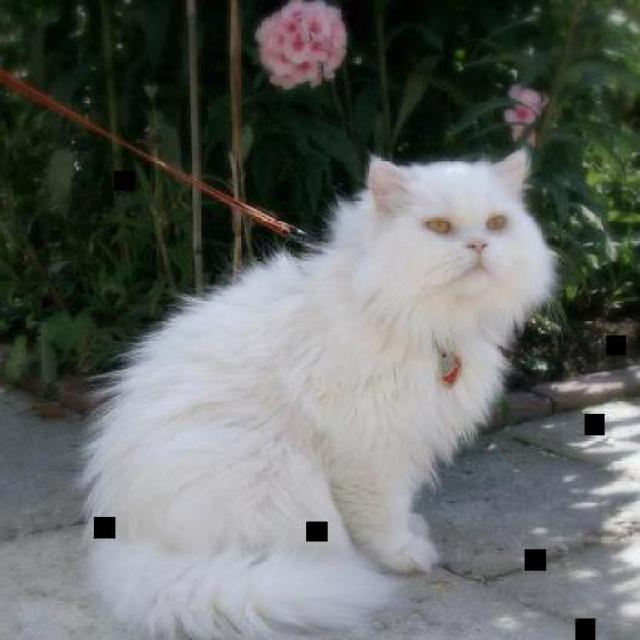cat: (86, 150, 551, 638)
